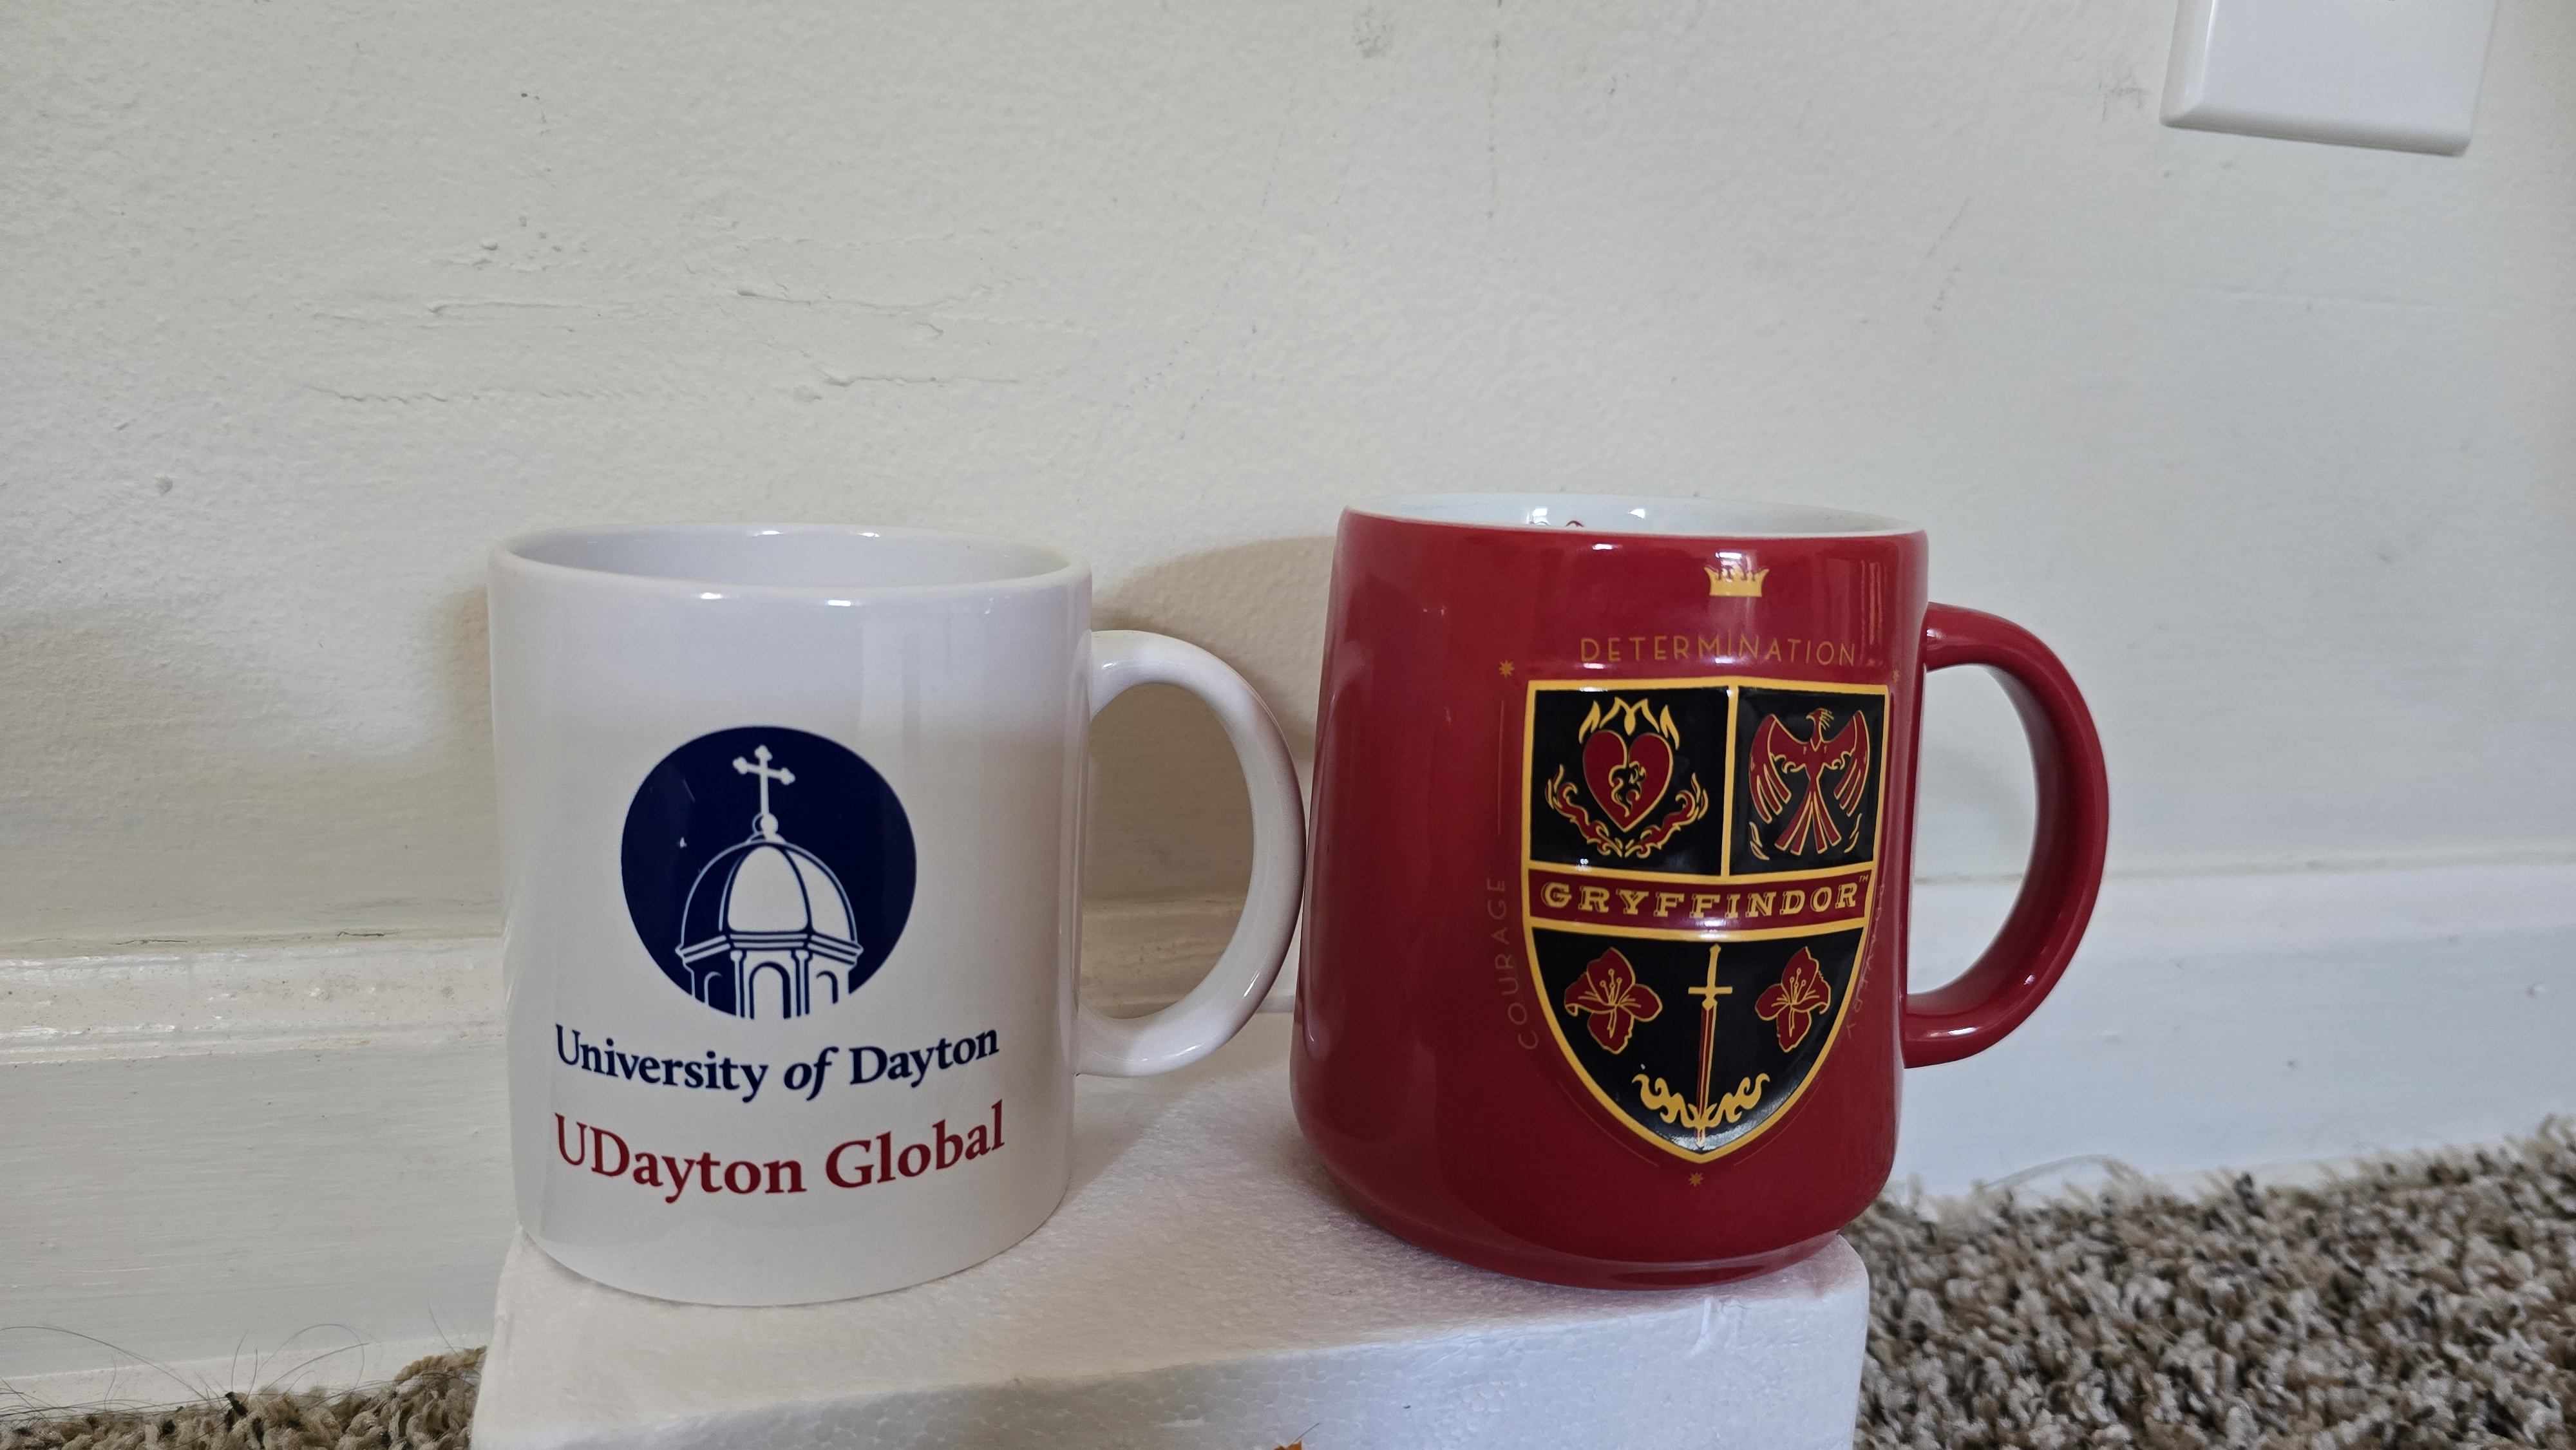mug: (1270, 361, 2130, 1309), (423, 454, 1318, 1358)
